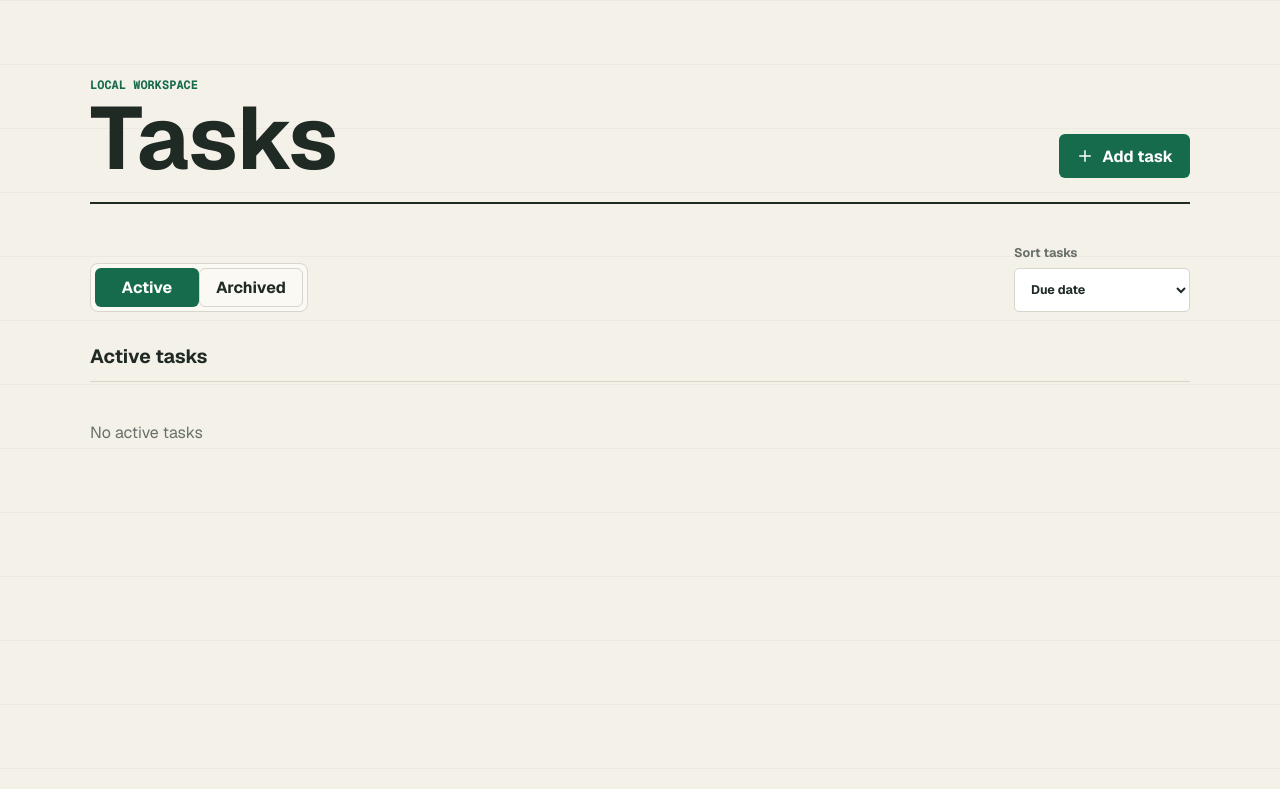
Test: AppShell › loads active tasks and adds a newly created task
Check: the text "No active tasks" is shown, box [90,422,203,443]
Click the button "Add task" at x=1125, y=156, box [1059,134,1190,178]
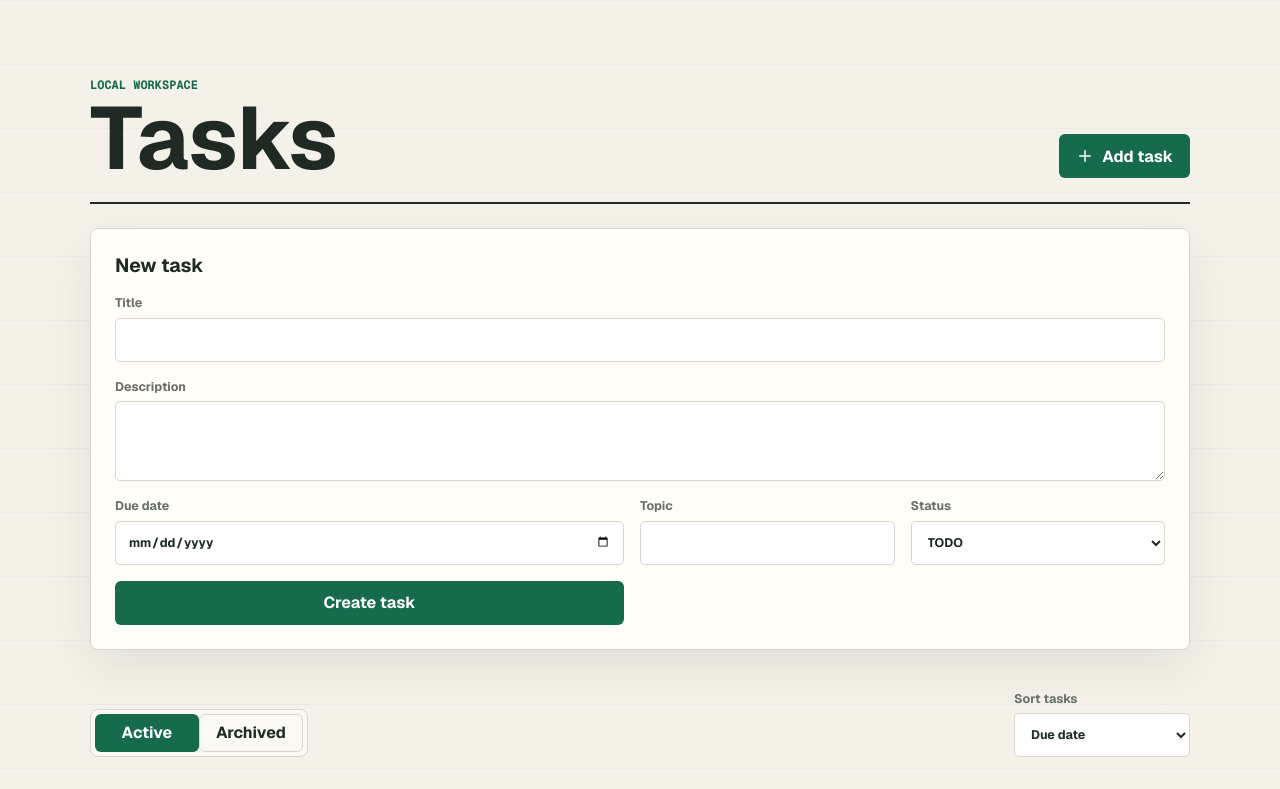
Type "Submit lab" into the field labelled "Title" at x=640, y=340, box [115,318,1165,362]
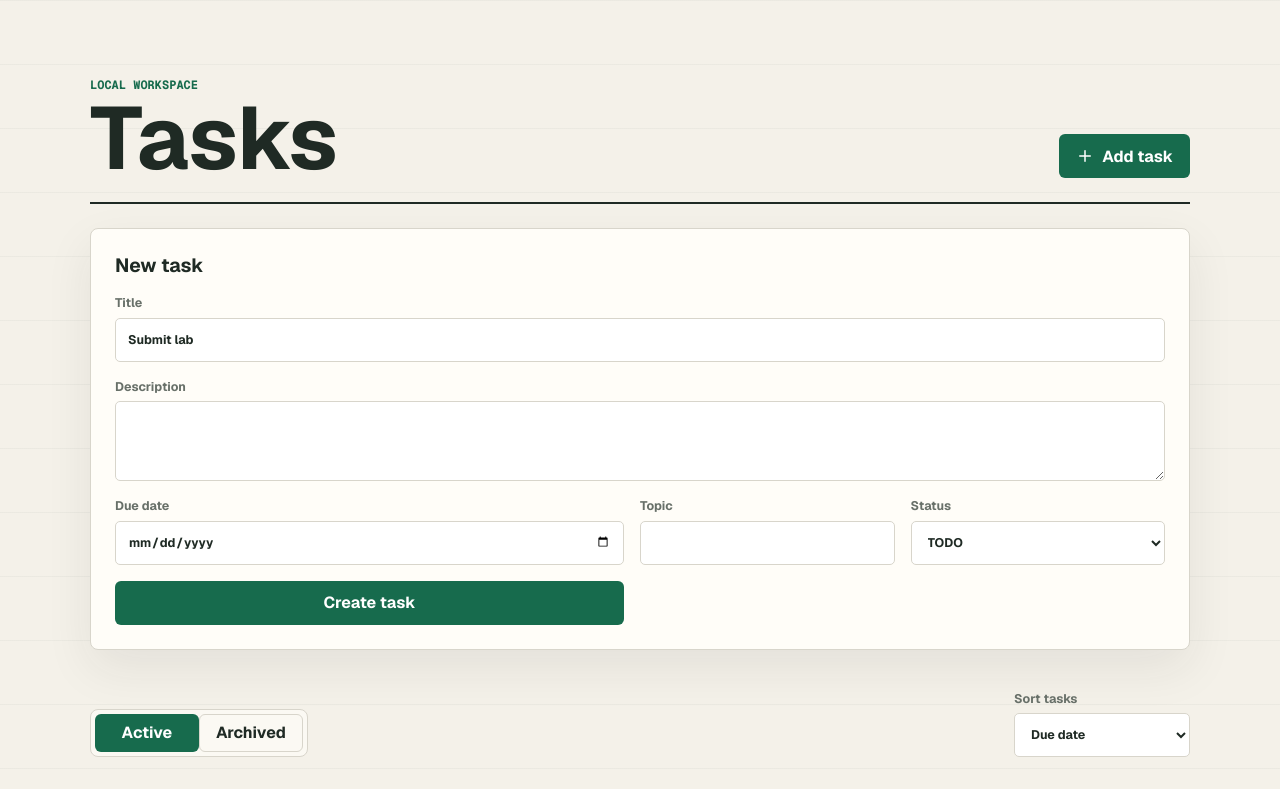
Type "Finish the implementation" into the text box labelled "Description" at x=640, y=441, box [115,401,1165,481]
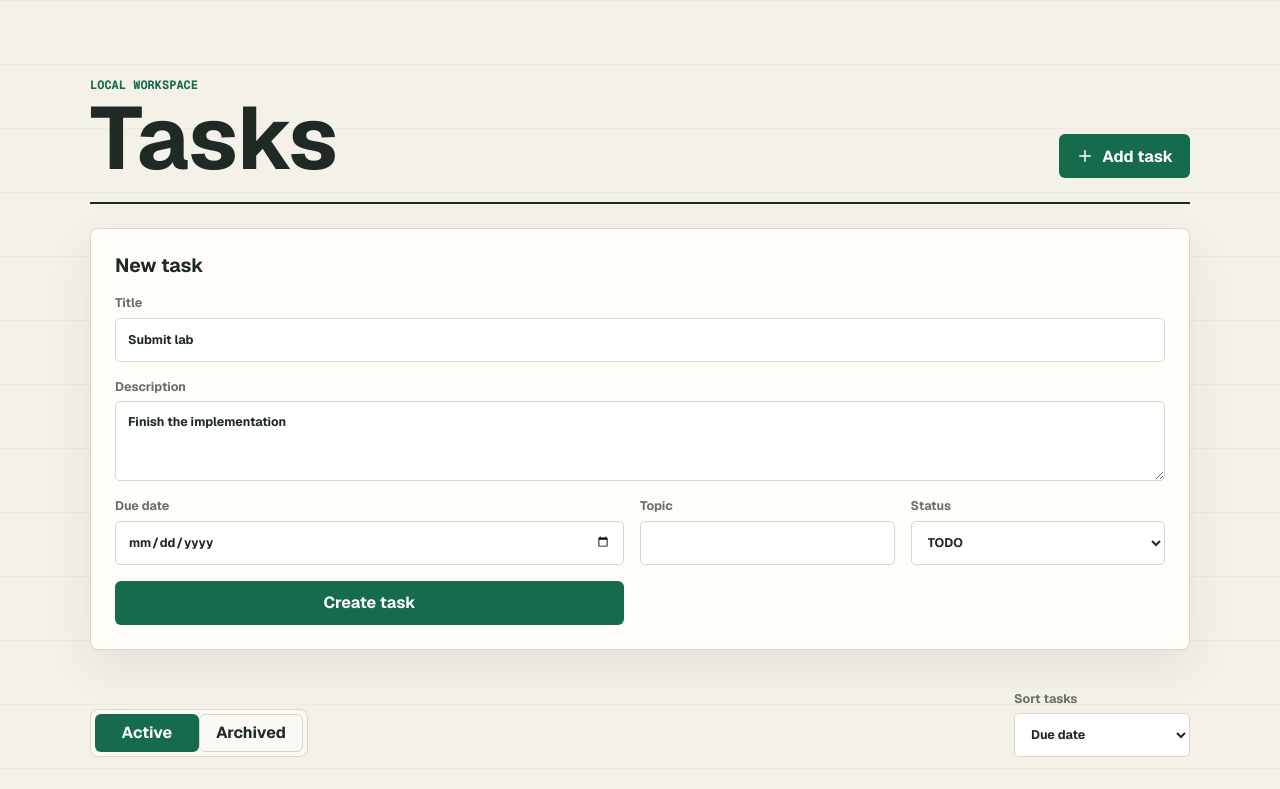
Type "2026-08-04" into the date field labelled "Due date" at x=370, y=542, box [115,520,624,564]
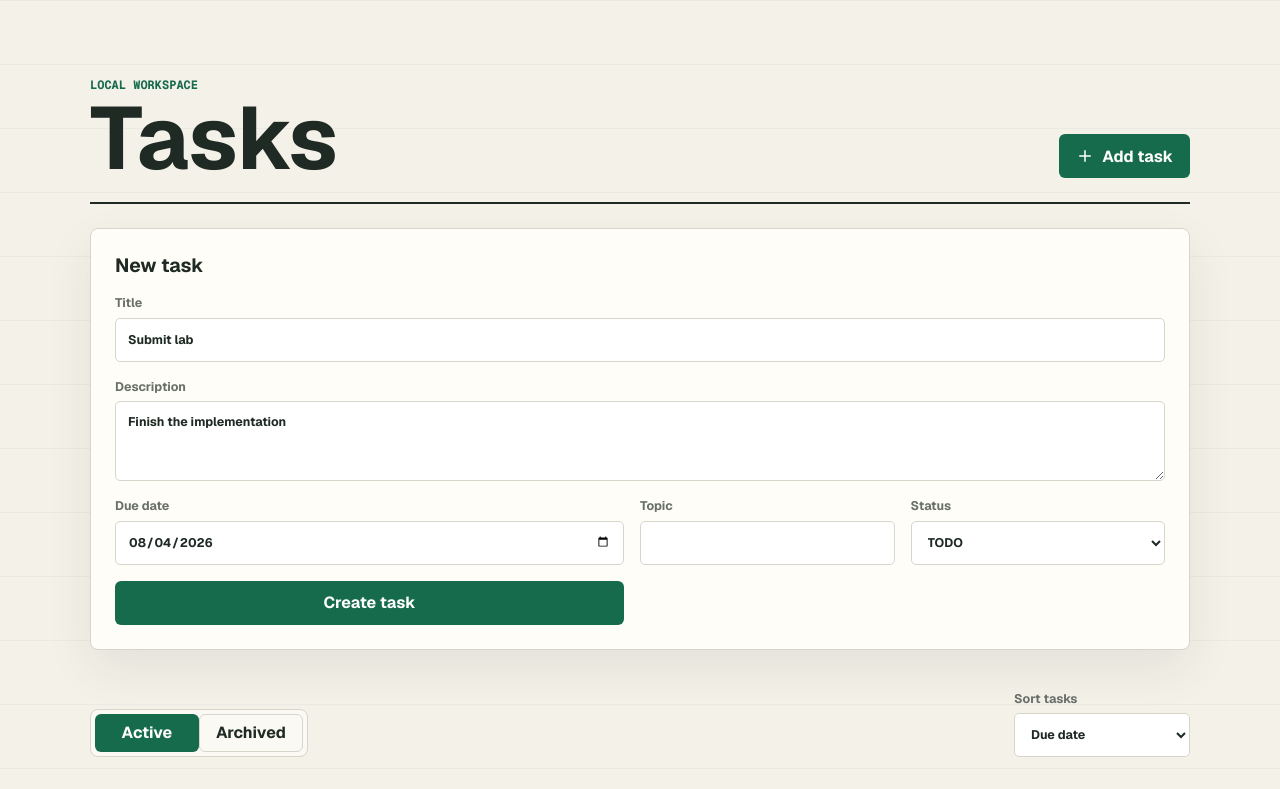
Type "University" into the field labelled "Topic" at x=767, y=542, box [640,520,894,564]
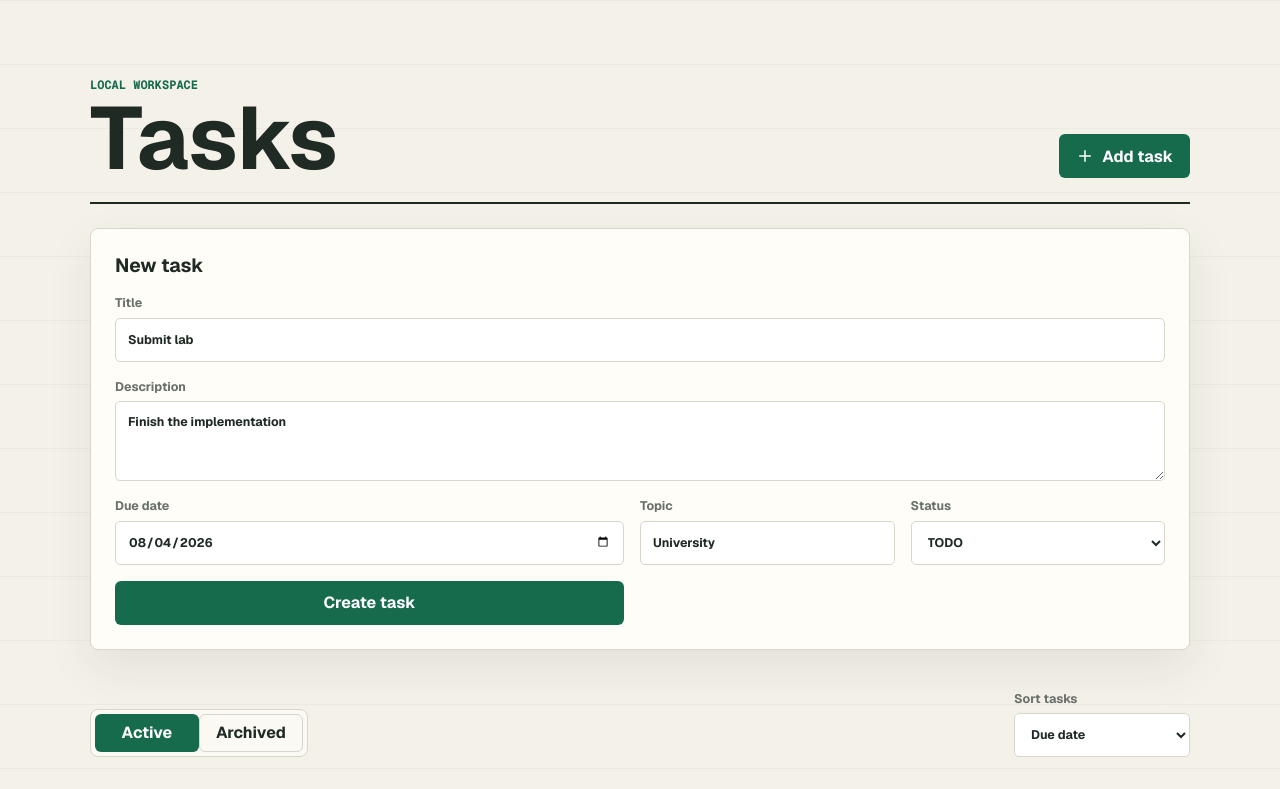
Click the button "Create task" at x=370, y=602, box [115,580,624,624]
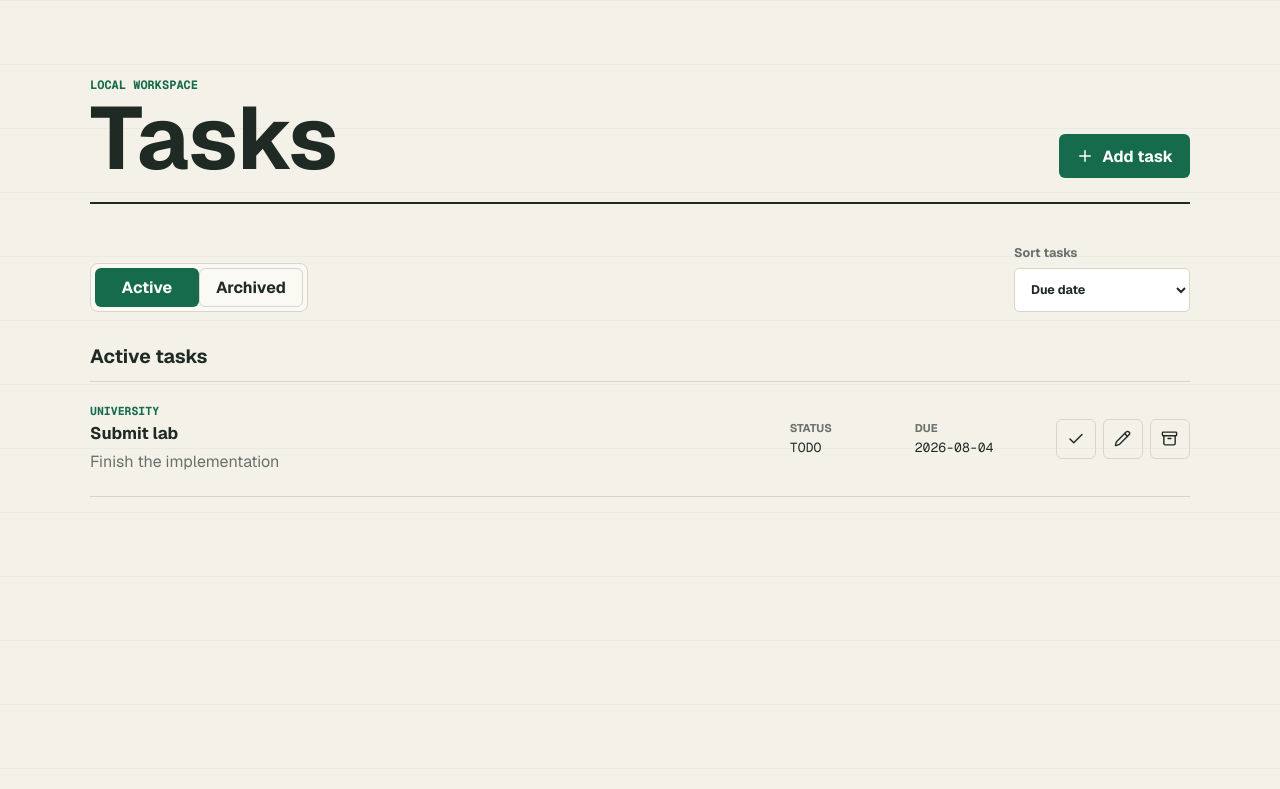
Check: the heading "Submit lab" is shown, box [90,422,178,444]
